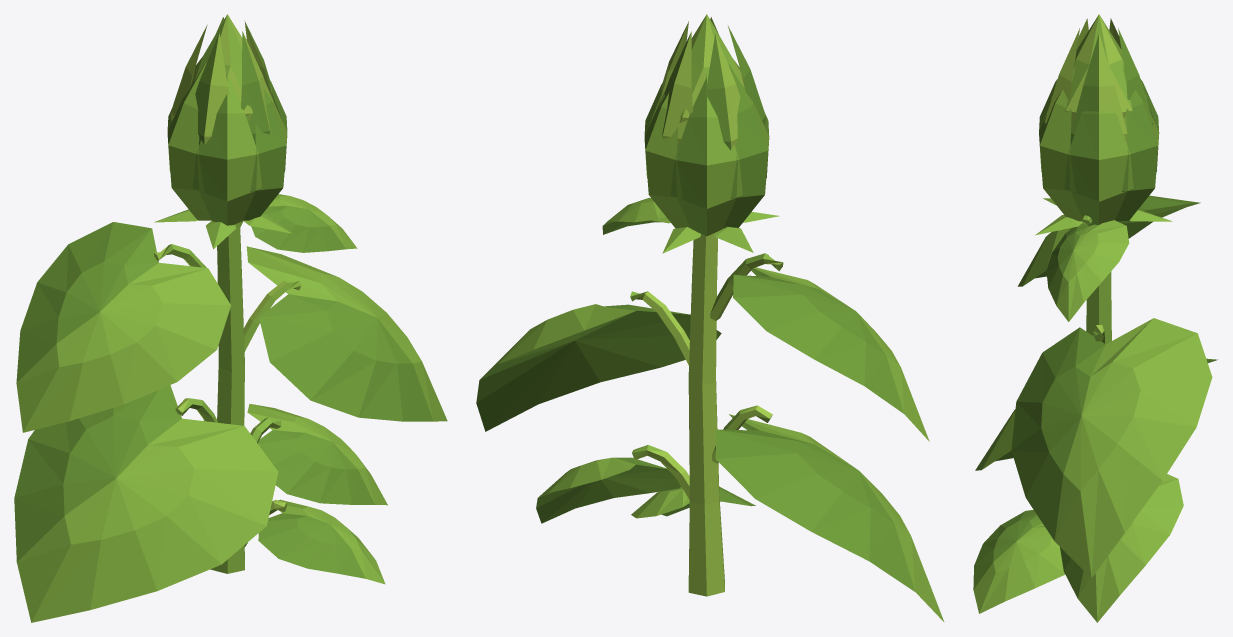
Rendered from FMS_Crop_Sunflower_S2.fbx.
3 renders of one model, left to right at view 1: azimuth 30°, elevation 25°; view 2: azimuth 150°, elevation 25°; view 3: azimuth 270°, elevation 25°, orthographic. The views are drawn at different scales.
Visible parts, largest first — view 1: FMS_Crop_Sunflower_S2; view 2: FMS_Crop_Sunflower_S2; view 3: FMS_Crop_Sunflower_S2.
Boxes of the visible parts, left/top/right/bottom form: FMS_Crop_Sunflower_S2: left=14, top=14, right=447, bottom=622; FMS_Crop_Sunflower_S2: left=476, top=14, right=944, bottom=622; FMS_Crop_Sunflower_S2: left=973, top=14, right=1217, bottom=622.
Size of the model in its own units: 0.6674 by 0.821 by 0.3295.
